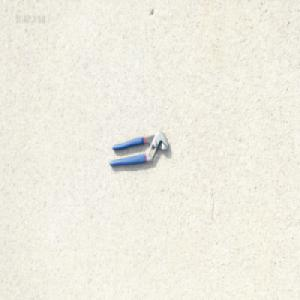Pliers: (108, 128, 168, 166)
